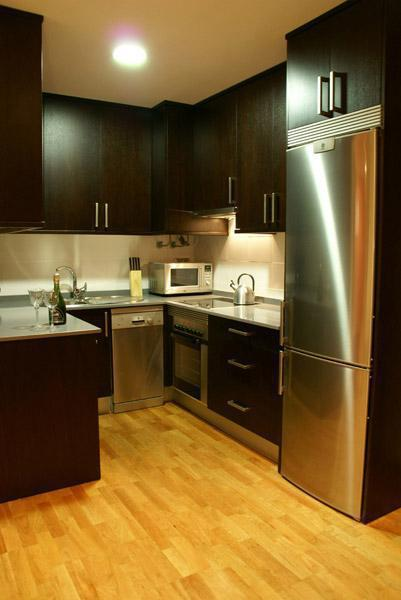Electrodomestico: (290, 140, 377, 528), (111, 303, 167, 412), (166, 306, 211, 422)
